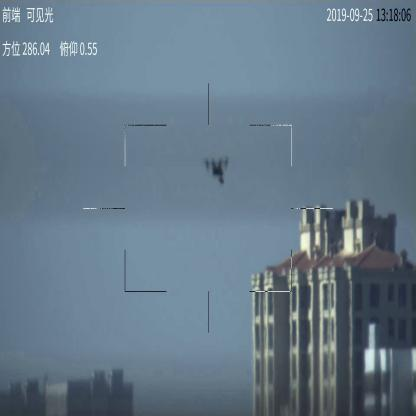uav: (204, 155, 231, 184)
